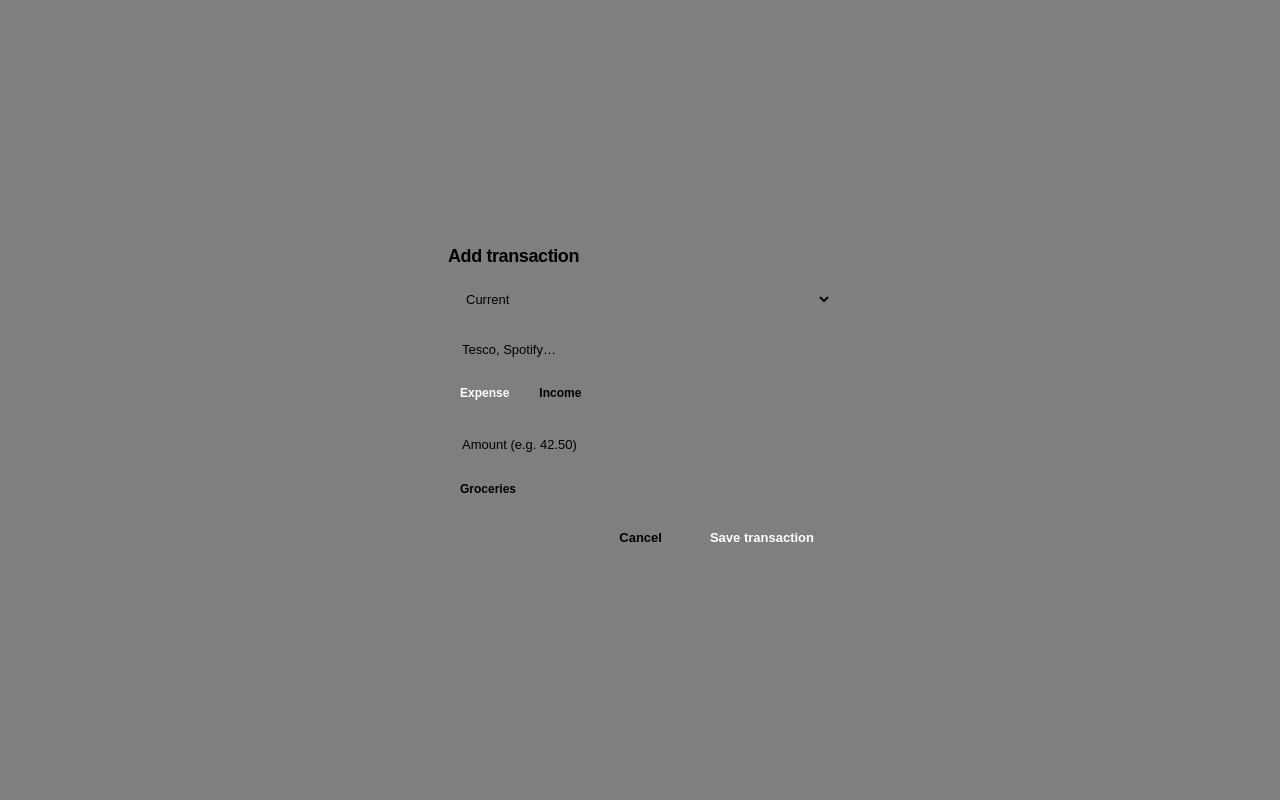
Test: AddModal › shows a confirmation toast after a transaction is recorded
The image size is (1280, 800).
Type "Tesco" into the field with placeholder "Tesco, Spotify…" at (640, 349), box [448,330,832,369]
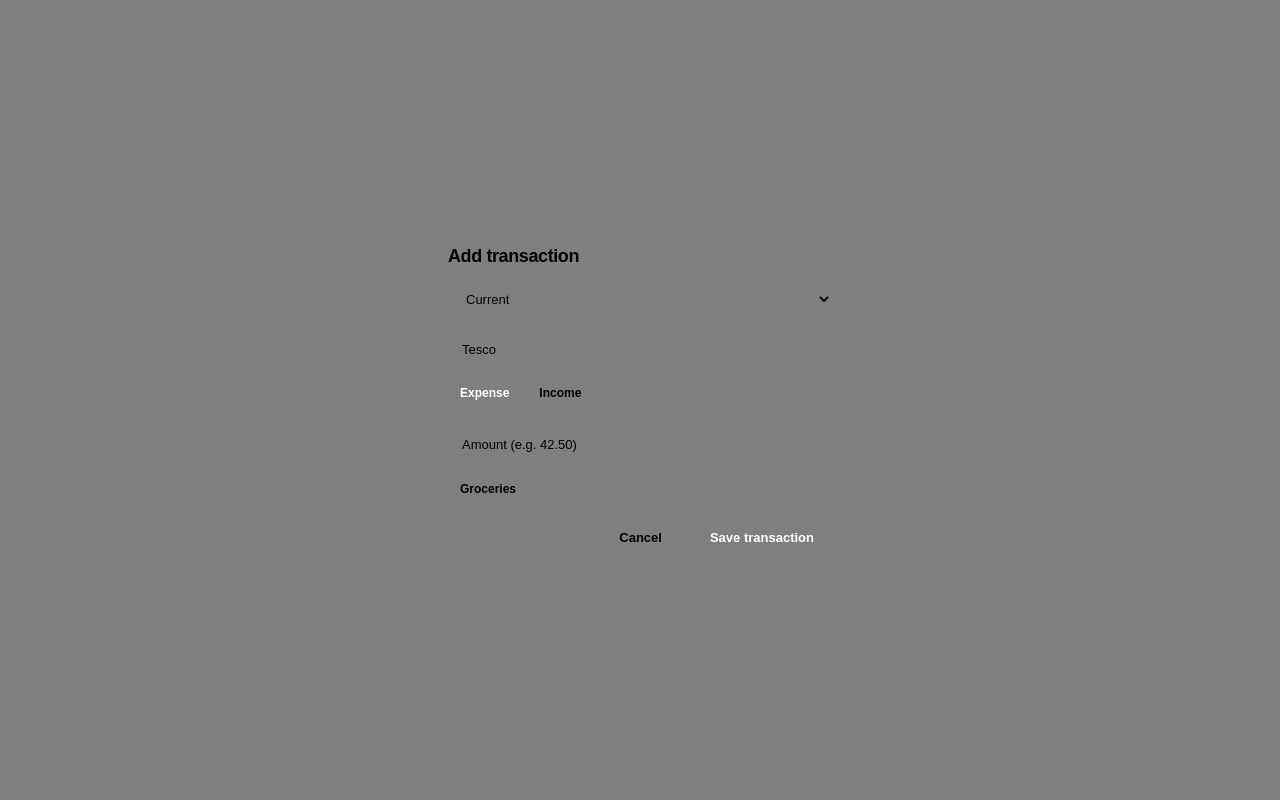
Type "42.50" into the field with placeholder "Amount (e.g. 42.50)" at (640, 445), box [448,425,832,464]
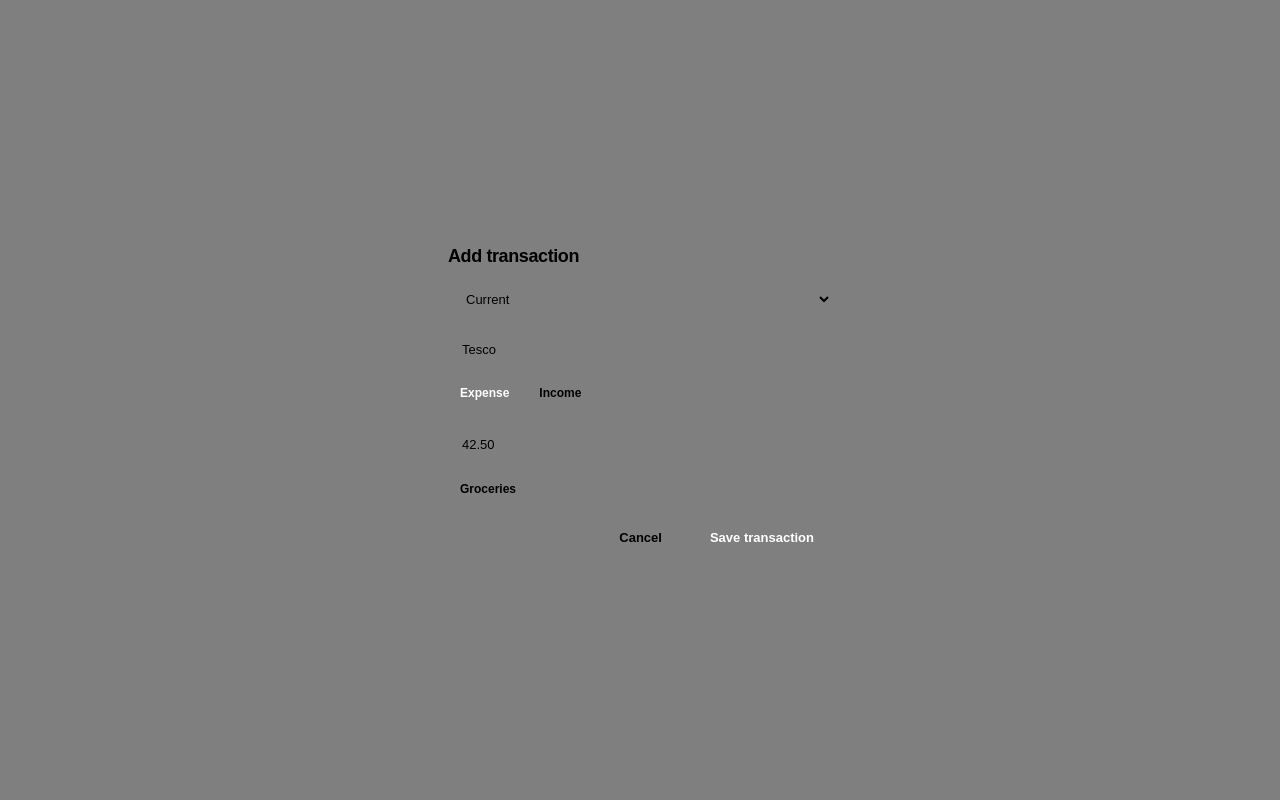
Click the button "Save transaction" at (762, 537), box [692,520,832,554]
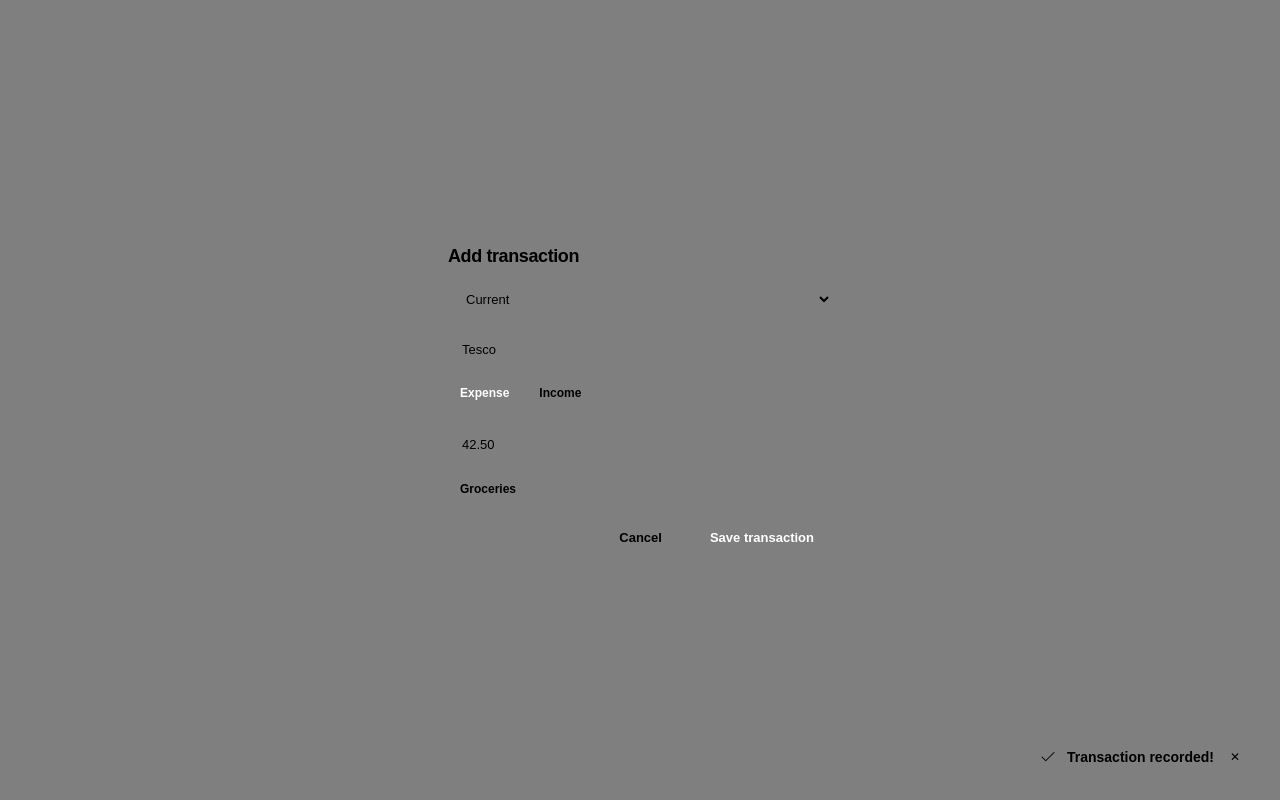
Now the text "Transaction recorded!" is shown, box [1067,748,1214,766]
